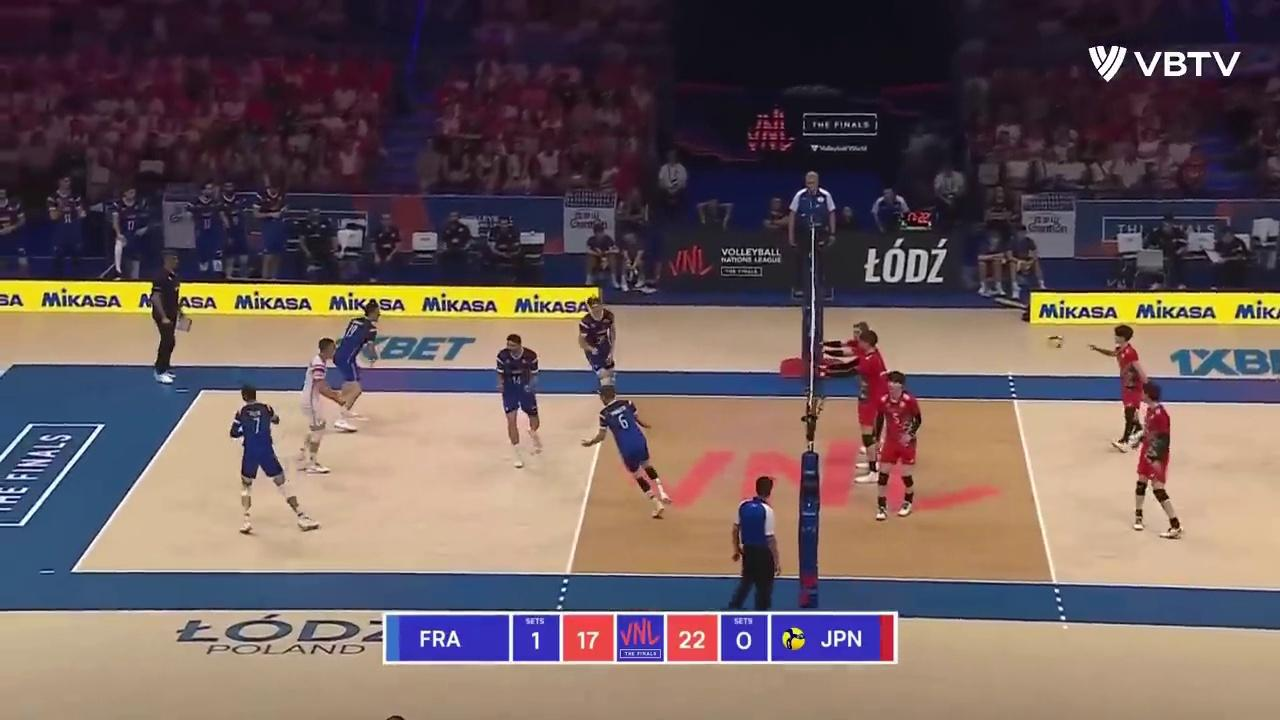ball: (1049, 334, 1064, 347)
